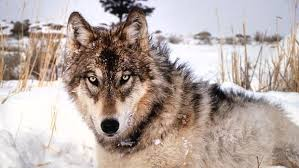wolf: (51, 9, 299, 167)
